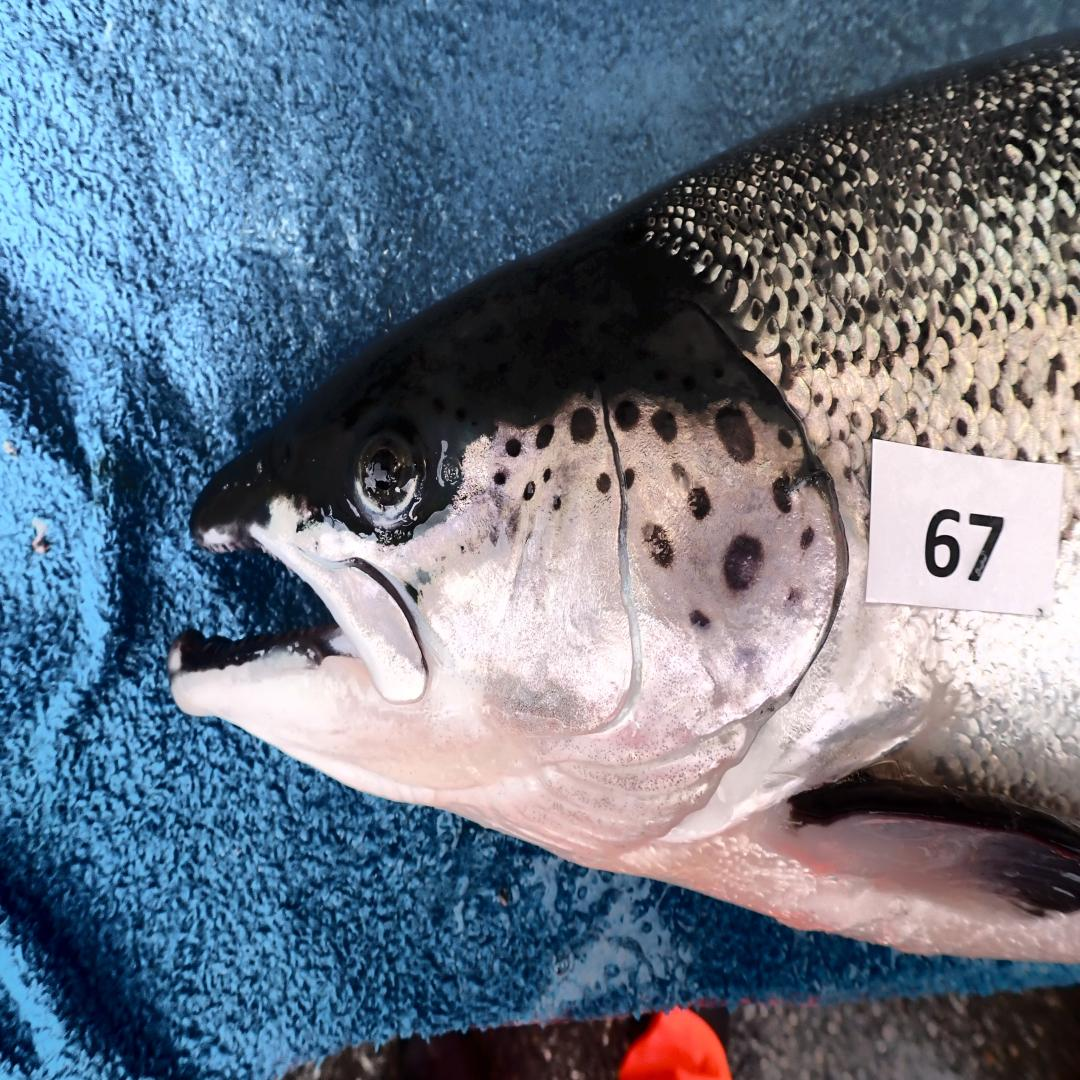spot: (723, 531, 764, 592), (715, 405, 755, 464), (639, 525, 674, 571), (570, 405, 597, 444), (772, 475, 794, 513), (652, 411, 677, 442), (614, 399, 639, 430), (687, 489, 710, 519), (536, 425, 555, 450), (506, 509, 520, 540), (690, 610, 711, 630), (787, 588, 803, 608), (506, 437, 521, 458), (597, 472, 612, 493), (778, 428, 793, 448), (801, 526, 814, 549), (523, 481, 536, 501), (671, 463, 685, 481), (624, 467, 635, 489), (489, 528, 498, 546), (494, 472, 506, 485), (542, 467, 551, 482), (552, 495, 561, 510)
